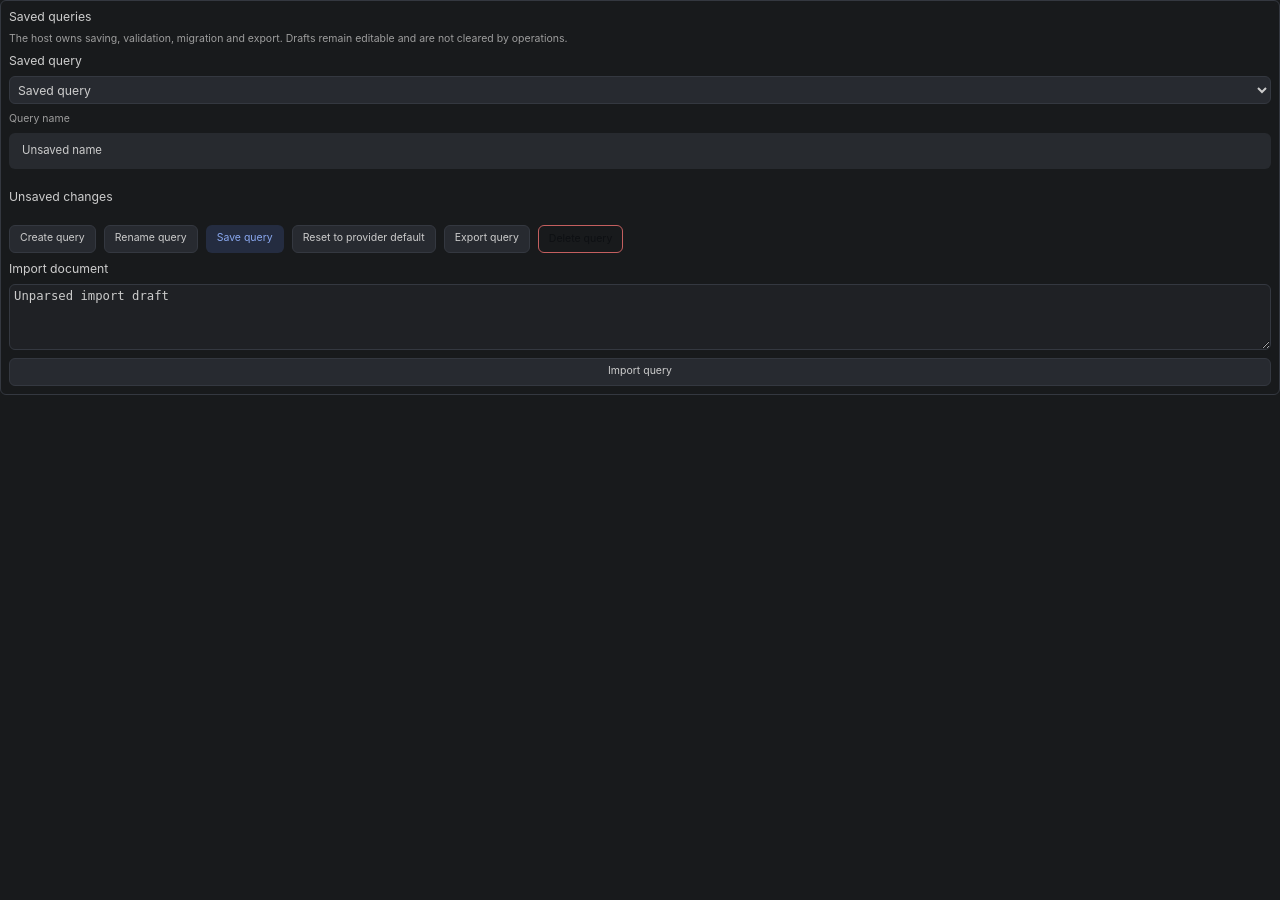
workspace review regressions › reports host deletion failure and preserves the saved selection and both drafts
What coordinates should you click on to do the following:
click the button "Delete query"
I would click on:
 (581, 238)
Its box is [538,224,623,252].
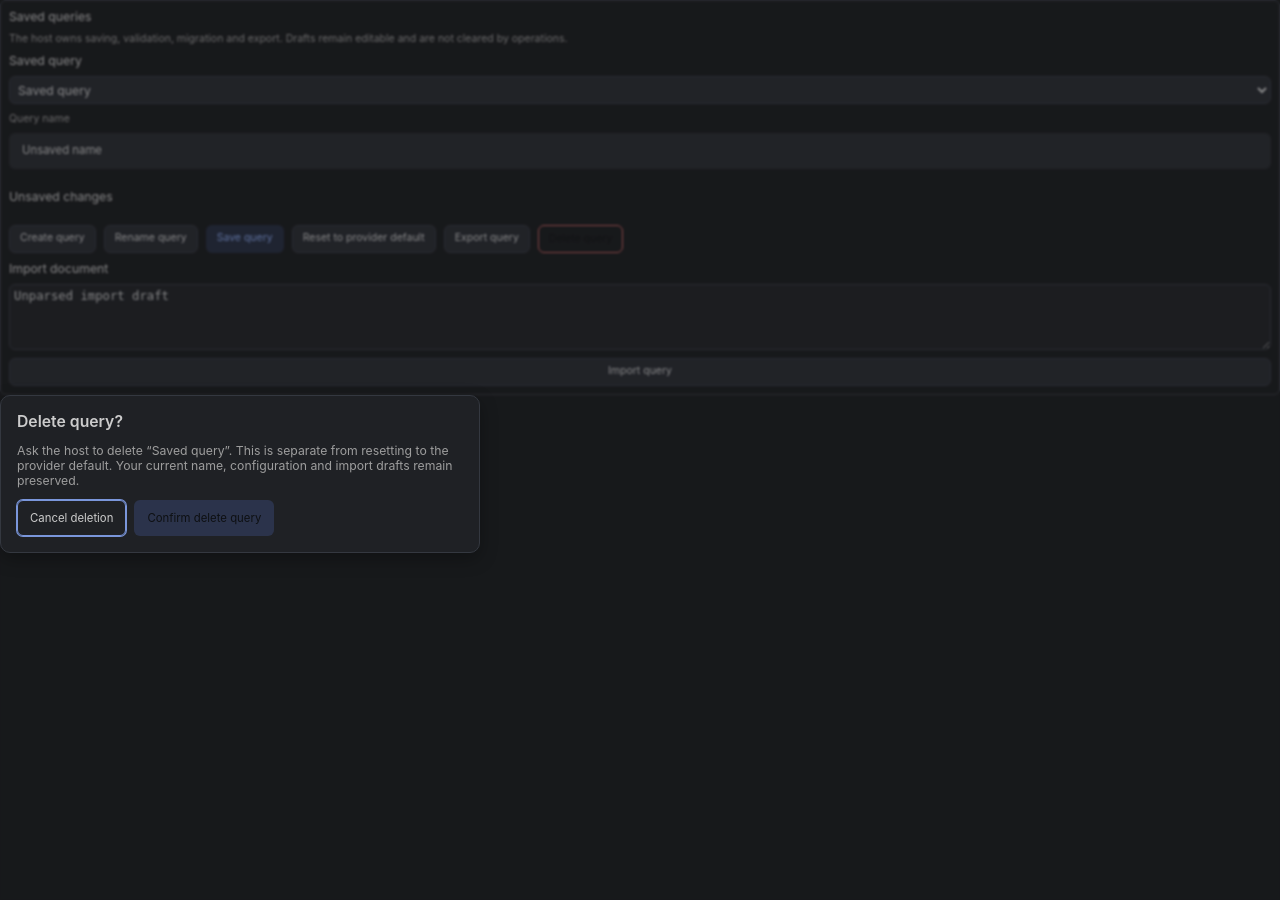
What coordinates should you click on to do the following:
click the button "Confirm delete query"
I would click on:
 (204, 518)
Its box is [134,500,274,536].
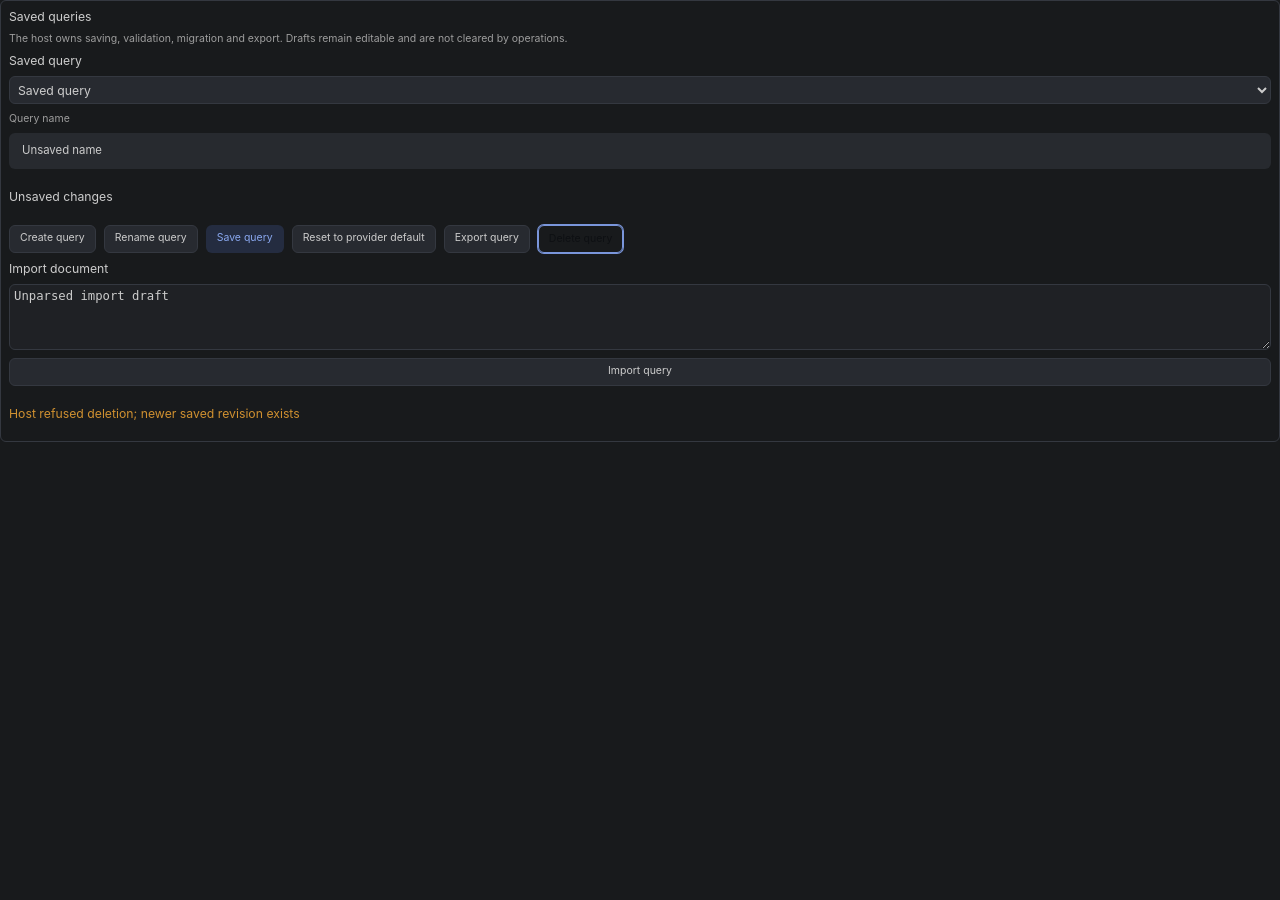
Expected: the dropdown labelled "Saved query" shows "Saved query", [9,76,1271,104]
Result: the message "Host refused deletion; newer saved revision exists" is shown at [9,406,300,421]
